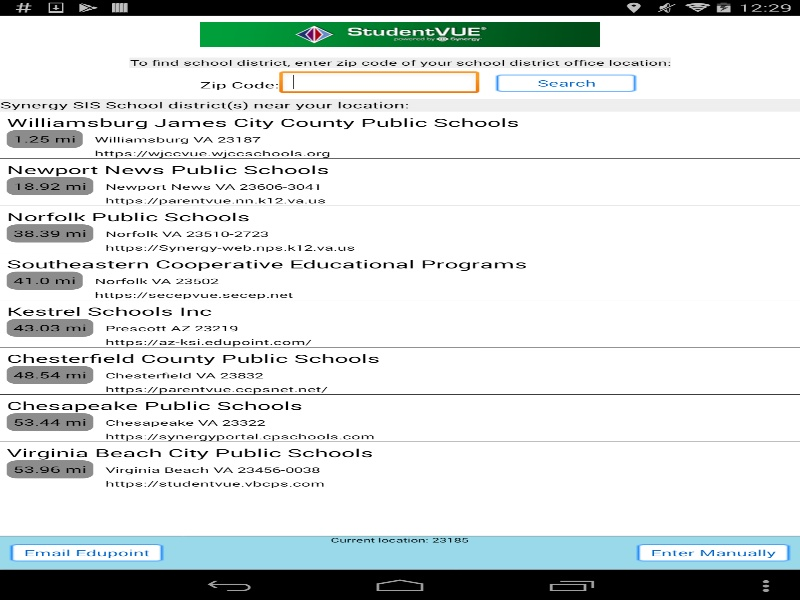Button: (6, 543, 166, 561), (633, 543, 793, 561), (492, 74, 639, 92)
Input: (279, 70, 479, 95)
